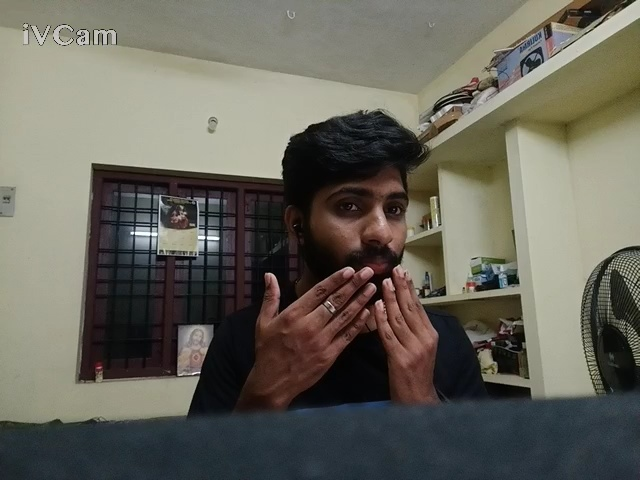Thank You: (199, 227, 451, 480)
